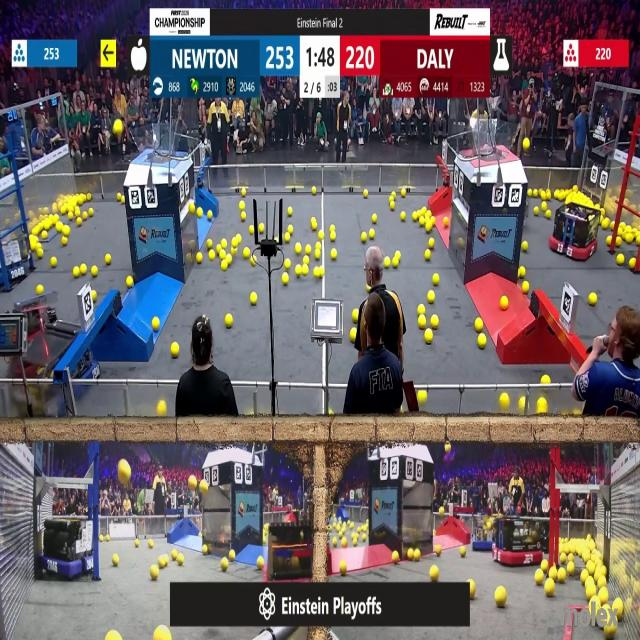ball_airborne: (118, 460, 130, 481), (113, 121, 122, 137), (200, 481, 209, 495), (188, 478, 196, 490), (524, 138, 530, 150), (446, 445, 452, 453)
ball_ground: (495, 587, 506, 608), (604, 625, 616, 640), (157, 627, 171, 639), (544, 581, 553, 597), (537, 398, 546, 414), (534, 570, 544, 584), (598, 590, 608, 604), (159, 402, 167, 418), (499, 394, 508, 408), (172, 343, 180, 358), (150, 565, 158, 580), (340, 560, 348, 575), (587, 586, 595, 601), (418, 390, 427, 403), (430, 315, 438, 329), (419, 315, 427, 329), (429, 566, 437, 580), (468, 582, 475, 598), (224, 314, 232, 327), (558, 569, 566, 582), (474, 318, 481, 332), (350, 328, 357, 342), (522, 281, 530, 293), (220, 559, 228, 571), (629, 258, 637, 270), (107, 632, 119, 640), (566, 563, 574, 575), (479, 336, 486, 349), (425, 331, 432, 344), (352, 310, 359, 323), (161, 556, 169, 567), (626, 234, 634, 245), (250, 292, 257, 304), (392, 552, 399, 564), (590, 292, 597, 304), (282, 274, 289, 286), (500, 296, 507, 308), (414, 550, 421, 562), (311, 218, 318, 230), (618, 254, 626, 264), (418, 305, 426, 315), (546, 567, 554, 577), (598, 576, 606, 586), (127, 277, 134, 288), (434, 543, 441, 554), (519, 268, 526, 279), (284, 260, 291, 271), (519, 397, 526, 408), (579, 571, 586, 582), (152, 318, 158, 330), (428, 290, 434, 302), (257, 557, 263, 569), (36, 249, 44, 258), (424, 250, 431, 260), (294, 244, 301, 254), (219, 250, 226, 260), (73, 268, 80, 278), (303, 267, 310, 277), (177, 556, 184, 566), (602, 218, 609, 228), (93, 267, 99, 278), (50, 256, 56, 267), (330, 249, 336, 260), (522, 241, 528, 252), (432, 275, 438, 286), (80, 266, 86, 277), (112, 555, 118, 566), (315, 268, 321, 279), (541, 376, 548, 385), (37, 285, 44, 294), (220, 263, 227, 272), (220, 240, 227, 249), (539, 188, 546, 197), (560, 554, 567, 563), (105, 254, 111, 264), (244, 248, 250, 258), (203, 543, 209, 553), (315, 250, 321, 260), (195, 252, 201, 262), (445, 216, 451, 226), (460, 545, 466, 555), (428, 239, 434, 249), (384, 257, 390, 267), (306, 245, 312, 255), (207, 240, 213, 250), (294, 266, 300, 276), (426, 221, 432, 231), (209, 250, 215, 260), (225, 254, 231, 264), (228, 552, 234, 562), (64, 226, 70, 236), (342, 537, 348, 547), (82, 210, 88, 220), (74, 207, 80, 217), (331, 537, 337, 547), (62, 238, 69, 246), (258, 223, 264, 232), (329, 233, 335, 242), (284, 234, 290, 243), (420, 217, 426, 226), (233, 238, 239, 247), (392, 258, 398, 267), (617, 238, 623, 247), (232, 247, 238, 256), (318, 232, 324, 241), (172, 552, 178, 561), (413, 212, 419, 221), (534, 206, 540, 215), (57, 222, 63, 231), (544, 189, 550, 198), (61, 207, 67, 216), (361, 233, 366, 243), (93, 290, 98, 300), (304, 255, 310, 263), (250, 256, 256, 264), (394, 250, 400, 258), (390, 202, 396, 210), (148, 539, 154, 547), (41, 232, 47, 240), (540, 203, 546, 211), (68, 212, 74, 220), (554, 190, 560, 198), (368, 231, 373, 240), (249, 224, 254, 233), (545, 210, 550, 219), (400, 212, 405, 221), (241, 212, 246, 221), (240, 202, 245, 211), (76, 217, 81, 226), (199, 208, 204, 217), (430, 216, 435, 225), (606, 237, 611, 246), (365, 285, 371, 292), (371, 214, 376, 222), (363, 189, 368, 197), (400, 189, 405, 197), (329, 223, 334, 231), (116, 192, 121, 200), (88, 192, 93, 200), (391, 190, 396, 198), (316, 243, 322, 249), (636, 237, 640, 246), (287, 208, 292, 215), (362, 534, 367, 541), (288, 224, 292, 232), (528, 188, 532, 196), (353, 538, 357, 546), (208, 210, 212, 218), (136, 538, 140, 546), (90, 208, 94, 216), (242, 188, 246, 196), (312, 186, 316, 194), (120, 197, 124, 205), (388, 194, 392, 202), (100, 535, 105, 541), (426, 210, 430, 217), (106, 535, 110, 541)
goal: (463, 121, 522, 160), (129, 129, 186, 160)
robot_blue: (18, 316, 102, 404), (40, 516, 96, 579), (0, 204, 36, 290), (472, 514, 500, 550)
robot_red: (550, 190, 599, 260), (494, 516, 550, 567), (266, 527, 312, 588)
